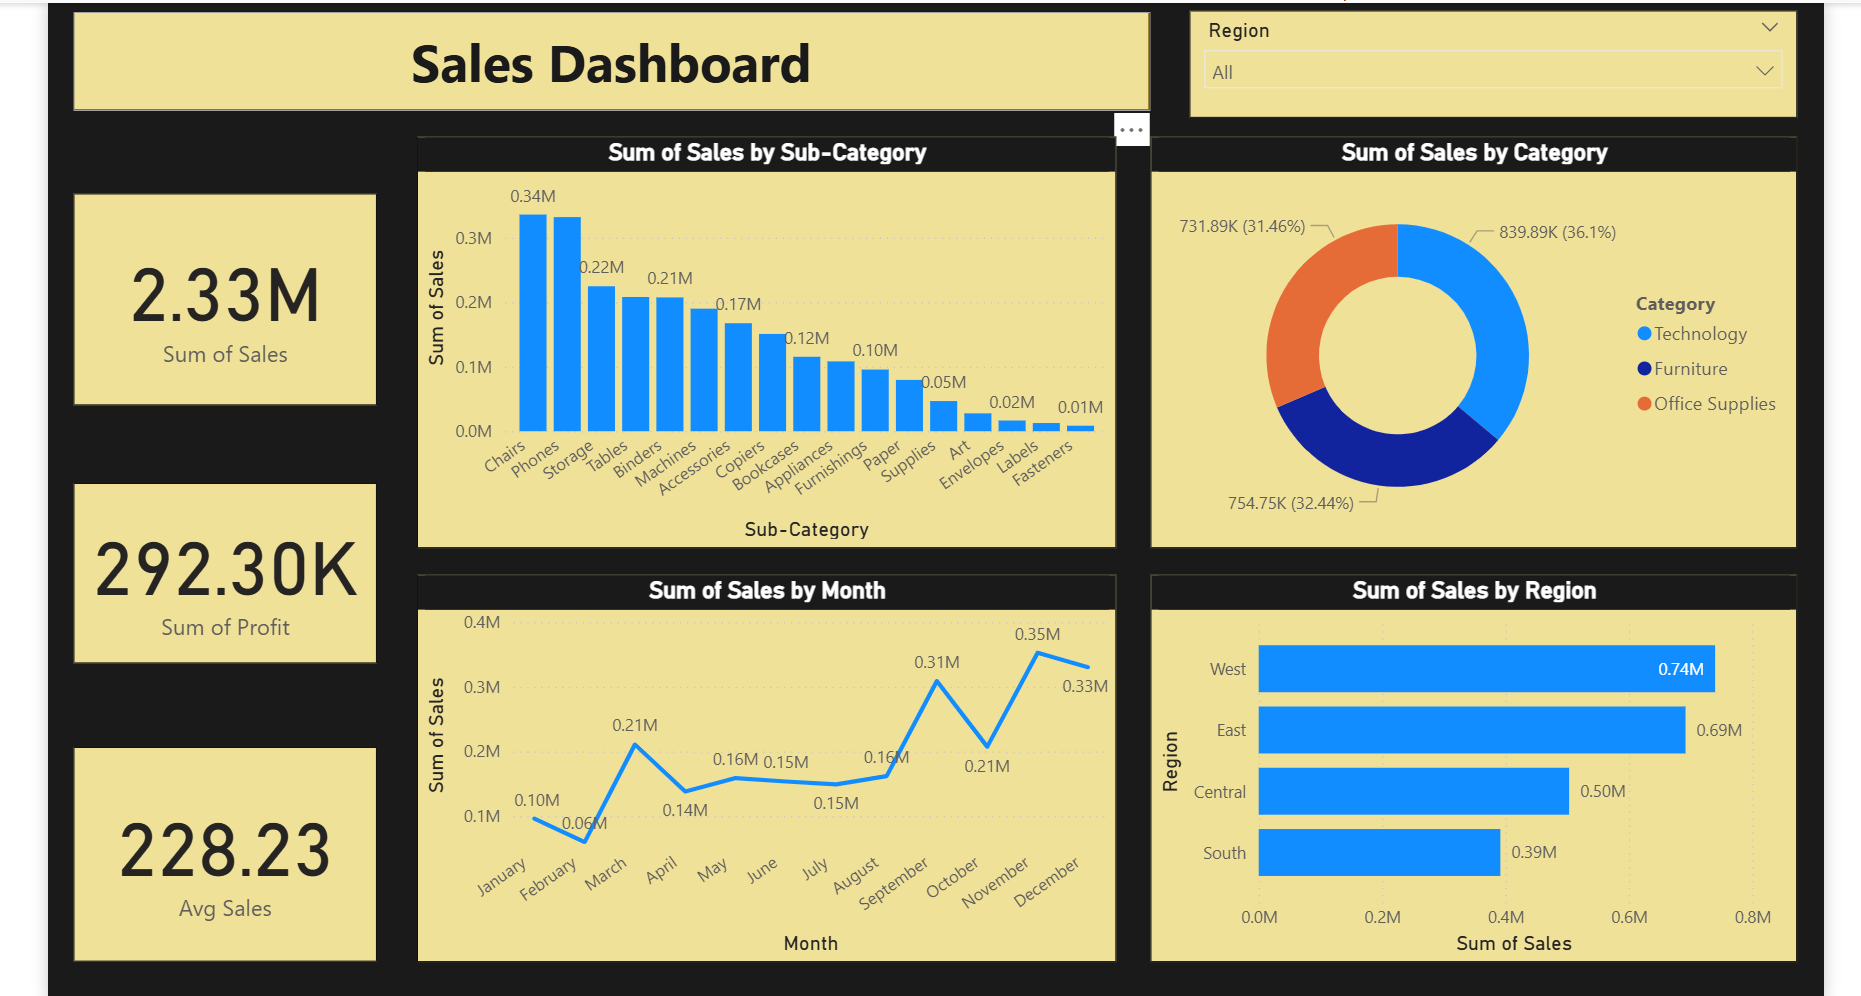

What the dashboard file says about the page in this screenshot:
{"tool":"powerbi","page":{"name":"Page 1","canvas":[1280,720],"ordinal":0},"visuals":[{"type":"lineChart","fields":{"Y":["Sum(Orders.Sales)"],"Category":["Orders.Order Date.Variation.Date Hierarchy.Month"]},"box":[266.2,411.6,504.1,279.4],"z":0},{"type":"barChart","fields":{"Y":["Sum(Orders.Sales)"],"Category":["Orders.Region"]},"box":[794.8,411.6,466.3,279.4],"z":1000},{"type":"donutChart","fields":{"Y":["Sum(Orders.Sales)"],"Category":["Orders.Category"]},"box":[794.8,96.3,466.3,296.4],"z":2000},{"type":"slicer","fields":{"Values":["Orders.Region"]},"box":[823.1,5.7,438,77.4],"z":3000},{"type":"shape","box":[18.5,6.2,775.9,71.4],"z":3001},{"type":"card","fields":{"Values":["Sum(Orders.Sales)"]},"box":[18.9,137.8,219,152.9],"z":3002},{"type":"card","fields":{"Values":["Sum(Orders.Profit)"]},"box":[18.9,345.5,219,130.3],"z":3003},{"type":"card","fields":{"Values":["Orders.Avg Sales"]},"box":[18.9,536.2,219,154.8],"z":3004},{"type":"clusteredColumnChart","fields":{"Y":["Sum(Orders.Sales)"],"Category":["Orders.Sub-Category"]},"box":[266.2,96.3,504.1,296.4],"z":3005}]}

Visuals, with their boxes in screenshot pixels (x1, y1, x2, y2):
lineChart - Sum(Orders.Sales) x Orders.Order Date.Variation.Date Hierarchy.Month: detection(406, 574, 1121, 970)
barChart - Sum(Orders.Sales) x Orders.Region: detection(1156, 574, 1817, 970)
donutChart - Sum(Orders.Sales) x Orders.Category: detection(1156, 127, 1817, 547)
slicer - Orders.Region: detection(1196, 0, 1817, 108)
shape: detection(55, 0, 1155, 100)
card - Sum(Orders.Sales): detection(56, 186, 366, 402)
card - Sum(Orders.Profit): detection(56, 480, 366, 665)
card - Orders.Avg Sales: detection(56, 750, 366, 970)
clusteredColumnChart - Sum(Orders.Sales) x Orders.Sub-Category: detection(406, 127, 1121, 547)
